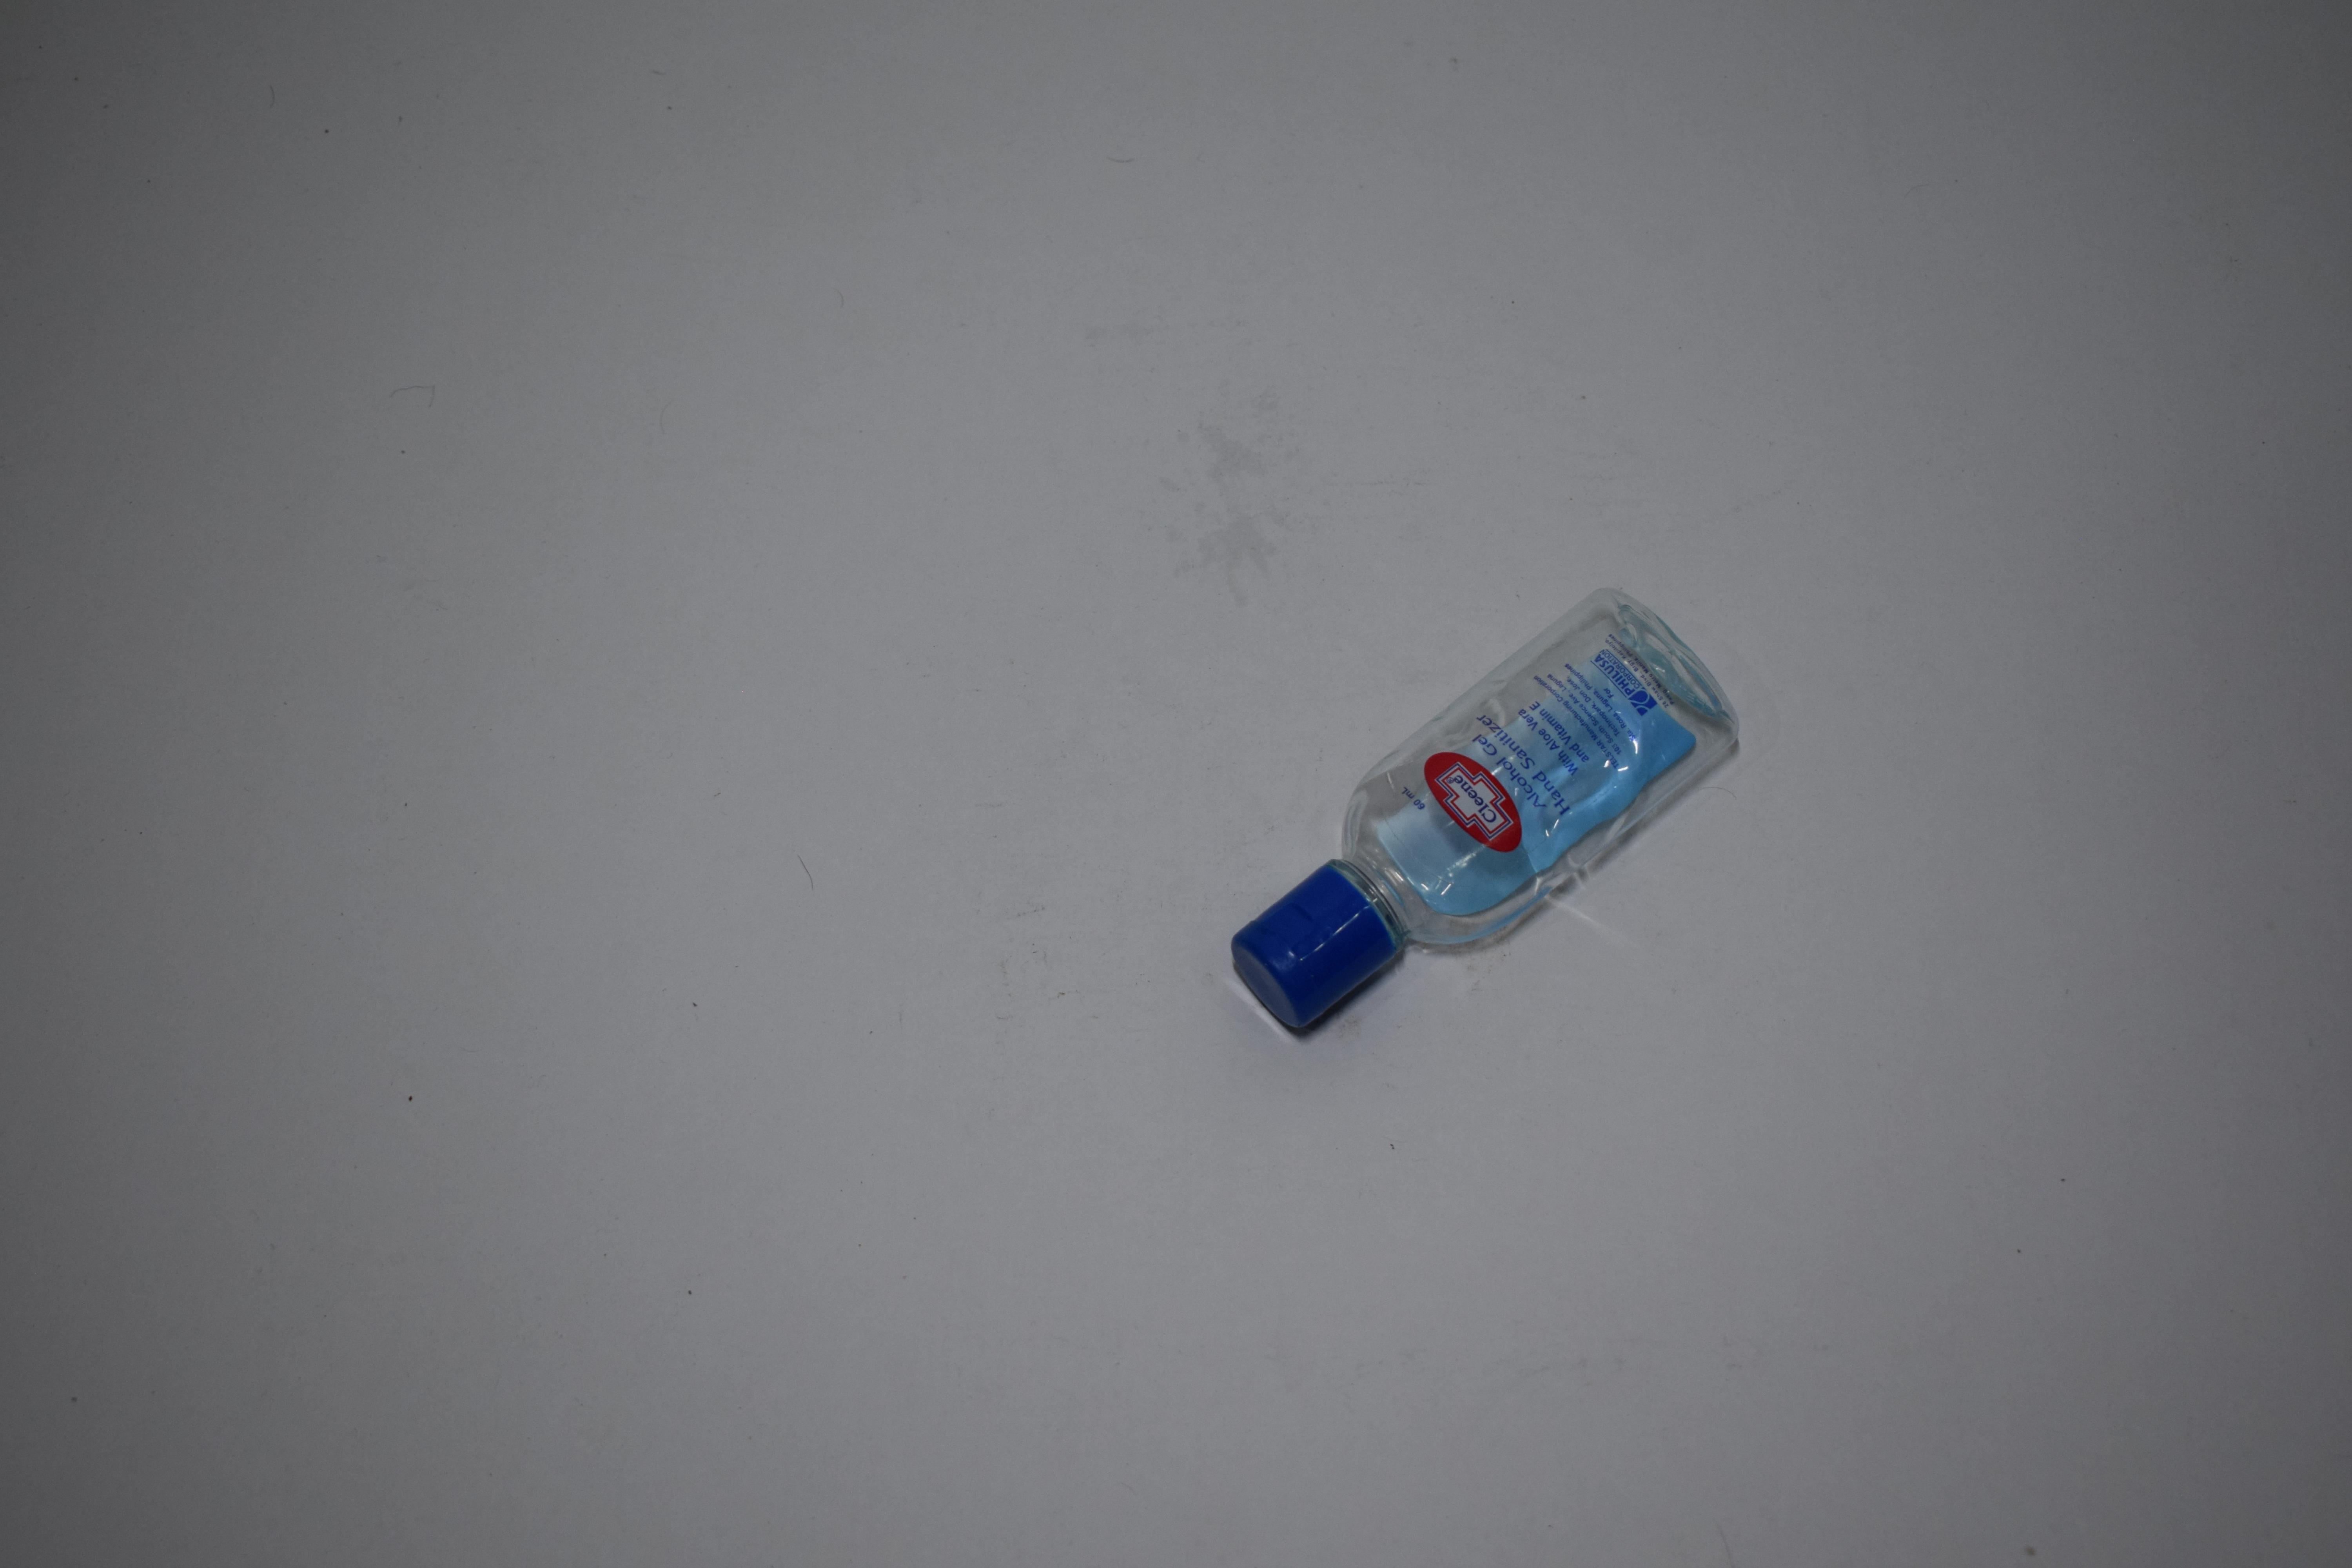bottle: (1220, 0, 1745, 262)
